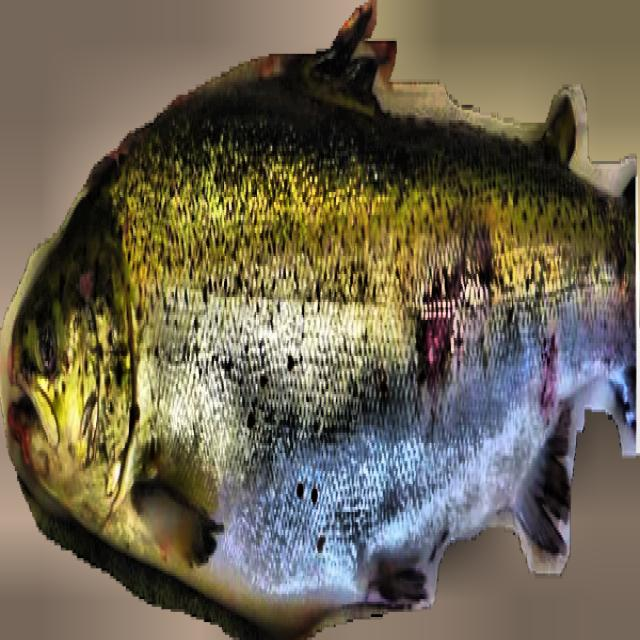mild_red: (113, 95, 637, 604)
